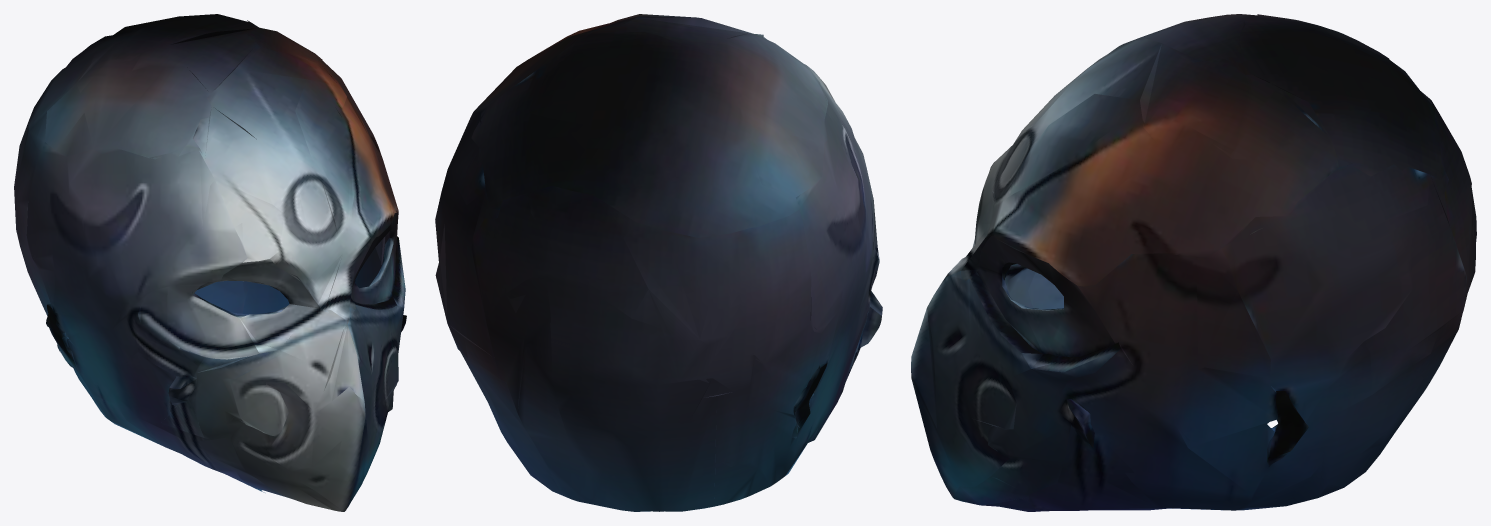
File: moon_stalker_mask.glb
The picture shows the model from 3 angles, left to right: view 1: azimuth 30°, elevation 25°; view 2: azimuth 150°, elevation 25°; view 3: azimuth 270°, elevation 25°; orthographic projection. The views are drawn at different scales.
Parts seen in each view (by area): view 1: world; view 2: world; view 3: world.
Boxes of the visible parts, x1=… form: world: x1=14, y1=14, x2=406, y2=511; world: x1=435, y1=14, x2=882, y2=511; world: x1=911, y1=14, x2=1476, y2=511.
Bounding box in the file's own units: 0.1882 × 0.2277 × 0.2553.
Materials: 1 (1 with a texture image).
